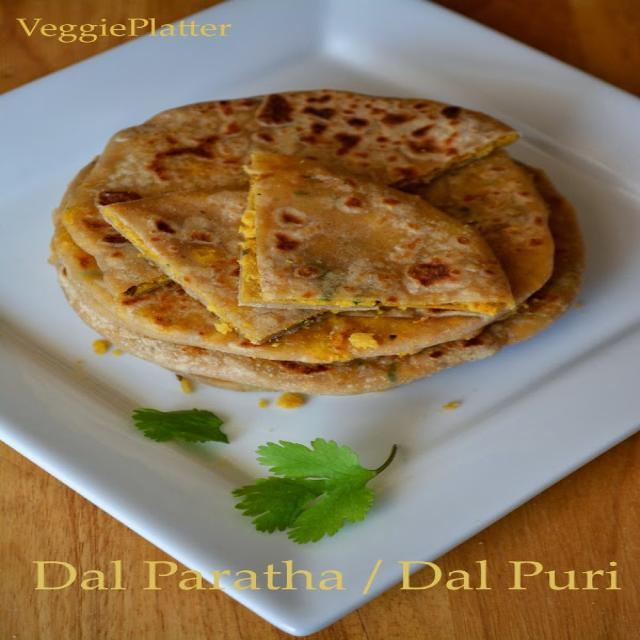CHAPATHI: (41, 93, 580, 396)
